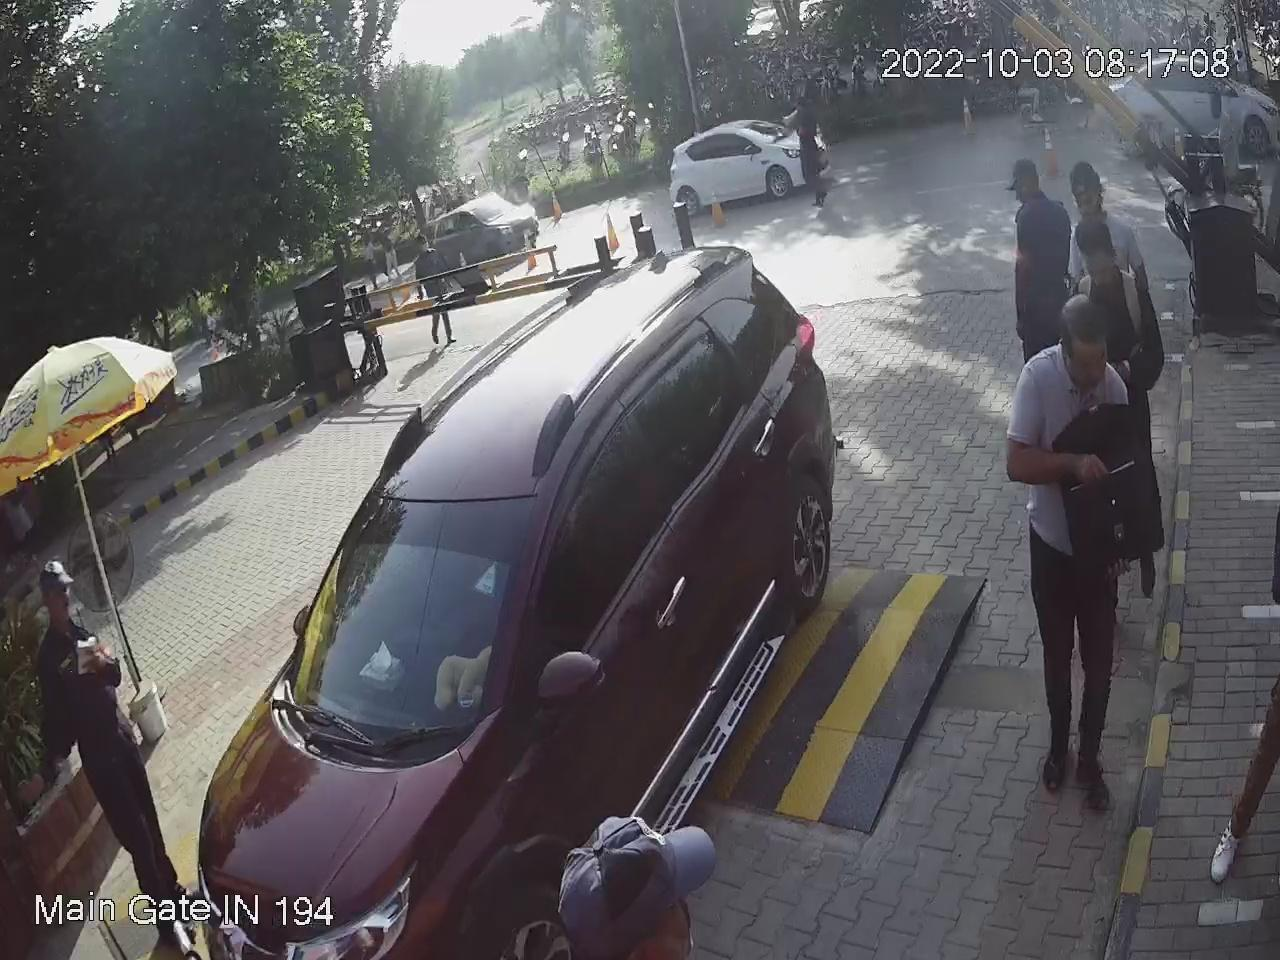windshield: (270, 485, 548, 747)
